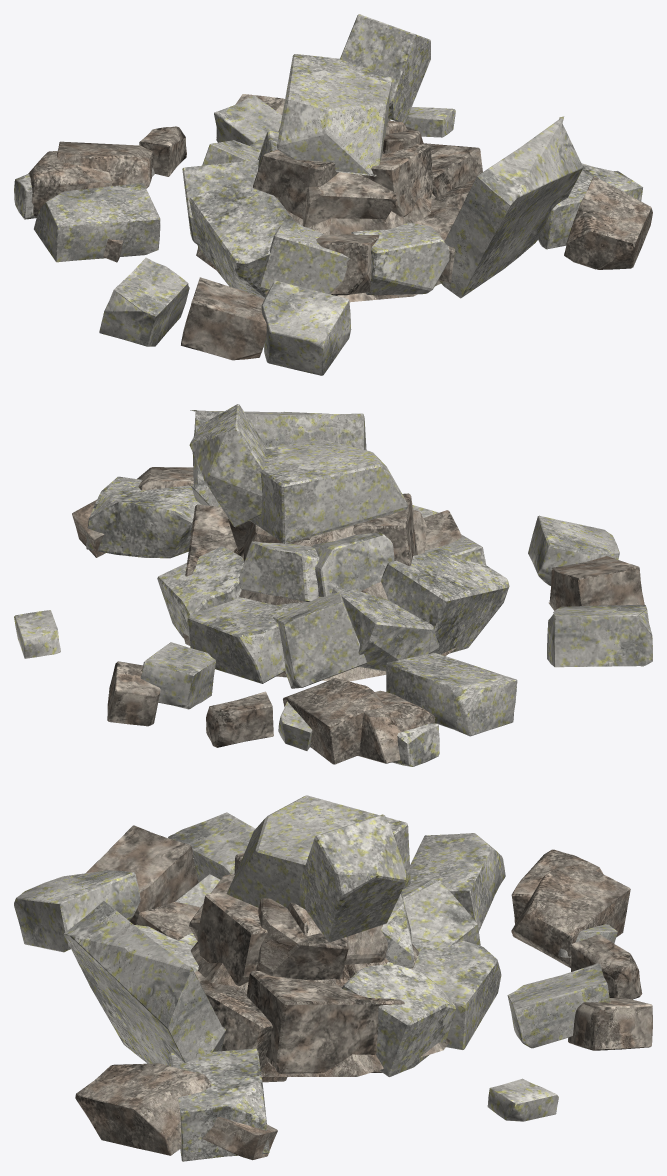
File: cima-araguells.glb
3 views of the same model, one above another, from view 1: azimuth 30°, elevation 25°; view 2: azimuth 150°, elevation 25°; view 3: azimuth 270°, elevation 25° (orthographic). The views are drawn at different scales.
Parts seen in each view (by area): view 1: hito_granito_liquen, hito_roca_beis, bloque15, bloque6, bloque13, bloque9, bloque5, bloque0, bloque8, bloque12, bloque3, bloque7 (+2 smaller); view 2: hito_granito_liquen, hito_roca_beis, bloque15, bloque8, bloque5, bloque0, bloque9, bloque6, bloque3, bloque12, bloque7, bloque2 (+5 smaller); view 3: hito_granito_liquen, hito_roca_beis, bloque13, bloque0, bloque8, bloque6, bloque15, bloque3, bloque9, bloque2, bloque5, bloque7 (+4 smaller).
Boxes of the visible parts, <box> form: hito_granito_liquen: <box>182,14,583,298</box>; hito_roca_beis: <box>196,120,482,302</box>; bloque15: <box>34,183,160,262</box>; bloque6: <box>261,280,351,375</box>; bloque13: <box>564,176,652,269</box>; bloque9: <box>181,277,266,360</box>; bloque5: <box>99,257,189,346</box>; bloque0: <box>57,141,153,188</box>; bloque8: <box>538,163,642,249</box>; bloque12: <box>28,150,113,216</box>; bloque3: <box>214,95,282,145</box>; bloque7: <box>139,126,186,176</box>; hito_granito_liquen: <box>157,404,509,688</box>; hito_roca_beis: <box>183,493,461,681</box>; bloque15: <box>386,653,517,736</box>; bloque8: <box>86,476,201,558</box>; bloque5: <box>547,605,652,667</box>; bloque0: <box>283,678,384,764</box>; bloque9: <box>548,556,644,610</box>; bloque6: <box>528,515,619,585</box>; bloque3: <box>140,642,215,709</box>; bloque12: <box>357,690,435,763</box>; bloque7: <box>206,691,273,747</box>; bloque2: <box>107,661,160,726</box>; hito_granito_liquen: <box>63,795,501,1076</box>; hito_roca_beis: <box>136,853,450,1082</box>; bloque13: <box>75,1063,211,1155</box>; bloque0: <box>511,864,630,968</box>; bloque8: <box>168,1048,269,1161</box>; bloque6: <box>14,870,140,952</box>; bloque15: <box>410,833,505,931</box>; bloque3: <box>507,963,610,1048</box>; bloque9: <box>86,825,198,924</box>; bloque2: <box>568,997,652,1050</box>; bloque5: <box>168,812,255,882</box>; bloque7: <box>571,934,642,999</box>.
Bounding box in the file's own units: 4.2 × 1.56 × 3.71.
2 materials, 2 textured.
